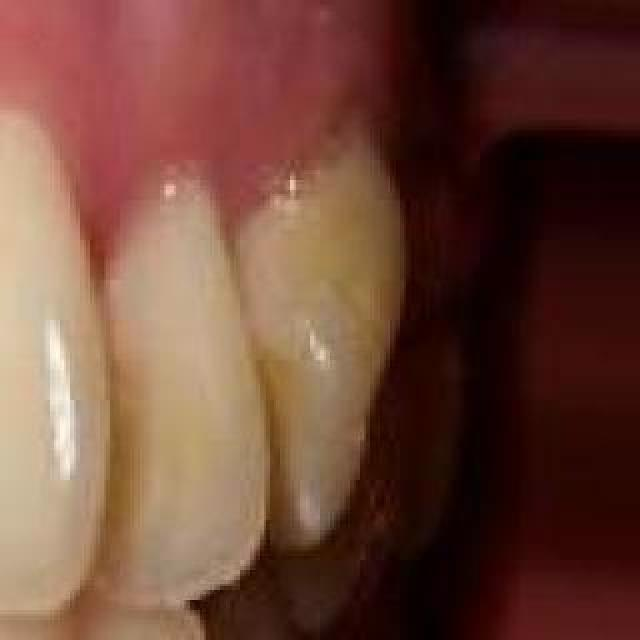maligned: (66, 93, 266, 621), (226, 122, 394, 564), (50, 558, 206, 640)
